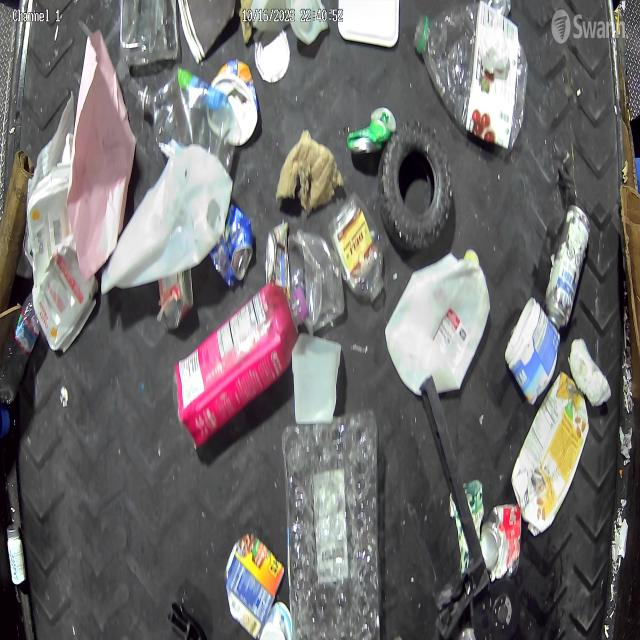can: (224, 531, 284, 636), (547, 204, 593, 328), (212, 202, 254, 290), (482, 501, 523, 580), (348, 107, 396, 157), (158, 268, 195, 331)
milk_jug: (99, 147, 234, 294), (386, 244, 492, 395)
non_white_jug: (510, 372, 590, 534)
plastic_bottle: (412, 4, 528, 147), (128, 68, 242, 170), (333, 194, 387, 297), (0, 297, 40, 405)
